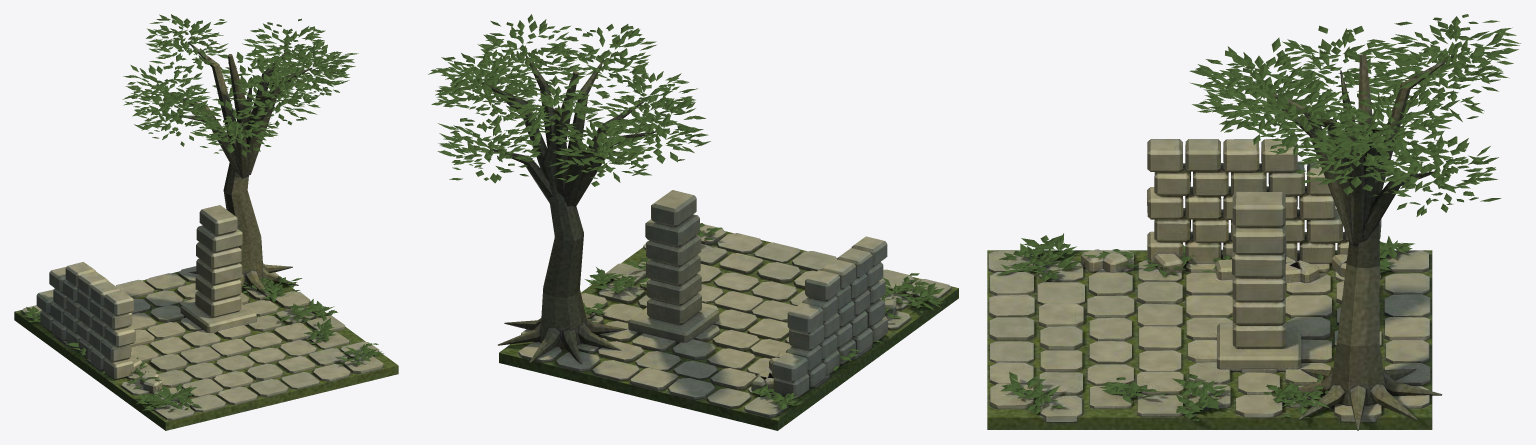
File: hub-corner.glb
3 views of the same model, side by side, from view 1: azimuth 30°, elevation 25°; view 2: azimuth 150°, elevation 25°; view 3: azimuth 270°, elevation 25° (orthographic). The views are drawn at different scales.
Visible parts, largest first — view 1: Corner_Baked, Corner_Foliage; view 2: Corner_Baked, Corner_Foliage; view 3: Corner_Baked, Corner_Foliage.
Part boxes in pixels (bbox=[...]): Corner_Baked: bbox=[14, 41, 398, 430]; Corner_Foliage: bbox=[23, 14, 383, 411]; Corner_Baked: bbox=[481, 55, 958, 430]; Corner_Foliage: bbox=[428, 14, 944, 409]; Corner_Baked: bbox=[987, 54, 1453, 430]; Corner_Foliage: bbox=[996, 14, 1520, 421].
Size of what is drawn, in the model's own units: 10.7 by 8.07 by 10.81.
Materials: 2 (1 with a texture image).
